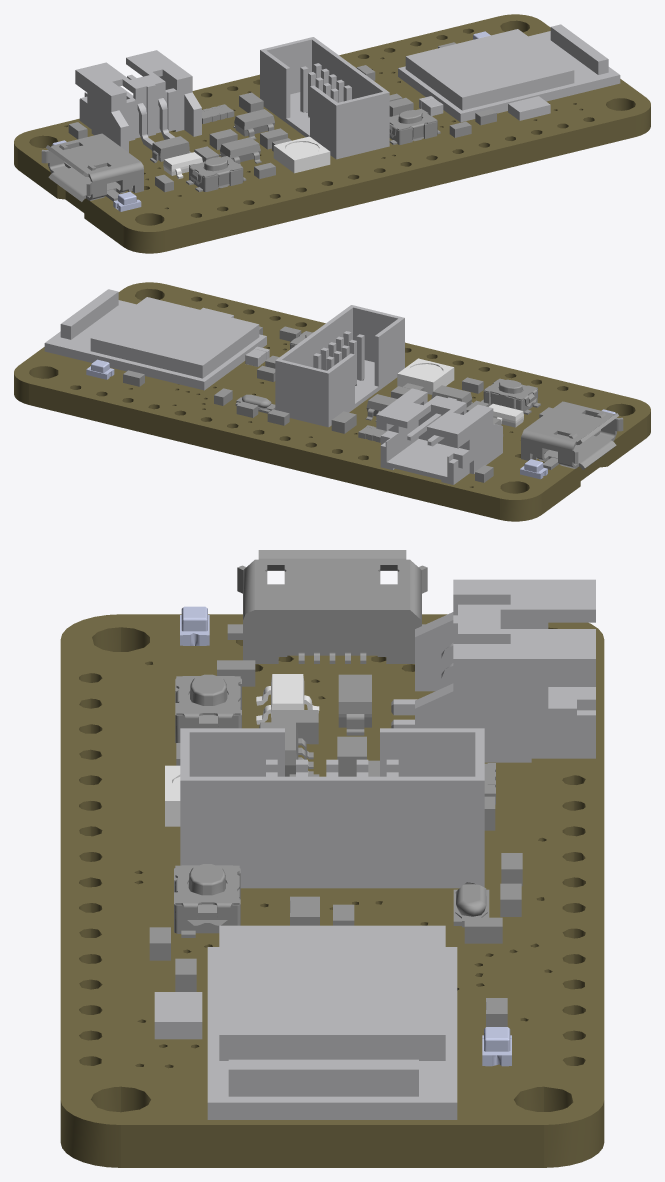
File: ada-4062.glb
The picture shows the model from 3 angles, top to bottom: view 1: azimuth 30°, elevation 25°; view 2: azimuth 150°, elevation 25°; view 3: azimuth 270°, elevation 25°; orthographic projection. The views are drawn at different scales.
Parts seen in each view (by area): view 1: 0.16666666666666666_0.16666666666666666_0.08333333333333333_, 0.5833333333333334_0.5833333333333334_0.5833333333333334_0.8, 0.3333333333333333_0.3333333333333333_0.3333333333333333_0, 0.9166666666666666_0.9166666666666666_0.9166666666666666_0.8, 0.5833333333333334_0.6666666666666666_0.8333333333333334_0; view 2: 0.16666666666666666_0.16666666666666666_0.08333333333333333_, 0.5833333333333334_0.5833333333333334_0.5833333333333334_0.8, 0.3333333333333333_0.3333333333333333_0.3333333333333333_0, 0.9166666666666666_0.9166666666666666_0.9166666666666666_0.8, 0.5833333333333334_0.6666666666666666_0.8333333333333334_0; view 3: 0.16666666666666666_0.16666666666666666_0.08333333333333333_, 0.5833333333333334_0.5833333333333334_0.5833333333333334_0.8, 0.3333333333333333_0.3333333333333333_0.3333333333333333_0, 0.9166666666666666_0.9166666666666666_0.9166666666666666_0.8, 0.5833333333333334_0.6666666666666666_0.8333333333333334_0.
Boxes of the visible parts, bbox=[...] form: 0.16666666666666666_0.16666666666666666_0.08333333333333333_: bbox=[14, 14, 650, 253]; 0.5833333333333334_0.5833333333333334_0.5833333333333334_0.8: bbox=[75, 24, 620, 159]; 0.3333333333333333_0.3333333333333333_0.3333333333333333_0: bbox=[41, 42, 496, 201]; 0.9166666666666666_0.9166666666666666_0.9166666666666666_0.8: bbox=[163, 136, 330, 178]; 0.5833333333333334_0.6666666666666666_0.8333333333333334_0: bbox=[52, 31, 490, 211]; 0.16666666666666666_0.16666666666666666_0.08333333333333333_: bbox=[14, 282, 650, 521]; 0.5833333333333334_0.5833333333333334_0.5833333333333334_0.8: bbox=[44, 289, 502, 484]; 0.3333333333333333_0.3333333333333333_0.3333333333333333_0: bbox=[123, 326, 623, 482]; 0.9166666666666666_0.9166666666666666_0.9166666666666666_0.8: bbox=[397, 358, 523, 427]; 0.5833333333333334_0.6666666666666666_0.8333333333333334_0: bbox=[86, 359, 615, 479]; 0.16666666666666666_0.16666666666666666_0.08333333333333333_: bbox=[60, 614, 604, 1167]; 0.5833333333333334_0.5833333333333334_0.5833333333333334_0.8: bbox=[154, 579, 595, 1119]; 0.3333333333333333_0.3333333333333333_0.3333333333333333_0: bbox=[149, 550, 522, 1026]; 0.9166666666666666_0.9166666666666666_0.9166666666666666_0.8: bbox=[165, 674, 319, 826]; 0.5833333333333334_0.6666666666666666_0.8333333333333334_0: bbox=[180, 606, 511, 1066].
Bounding box in the file's own units: 5.15 × 0.6991 × 2.29.
